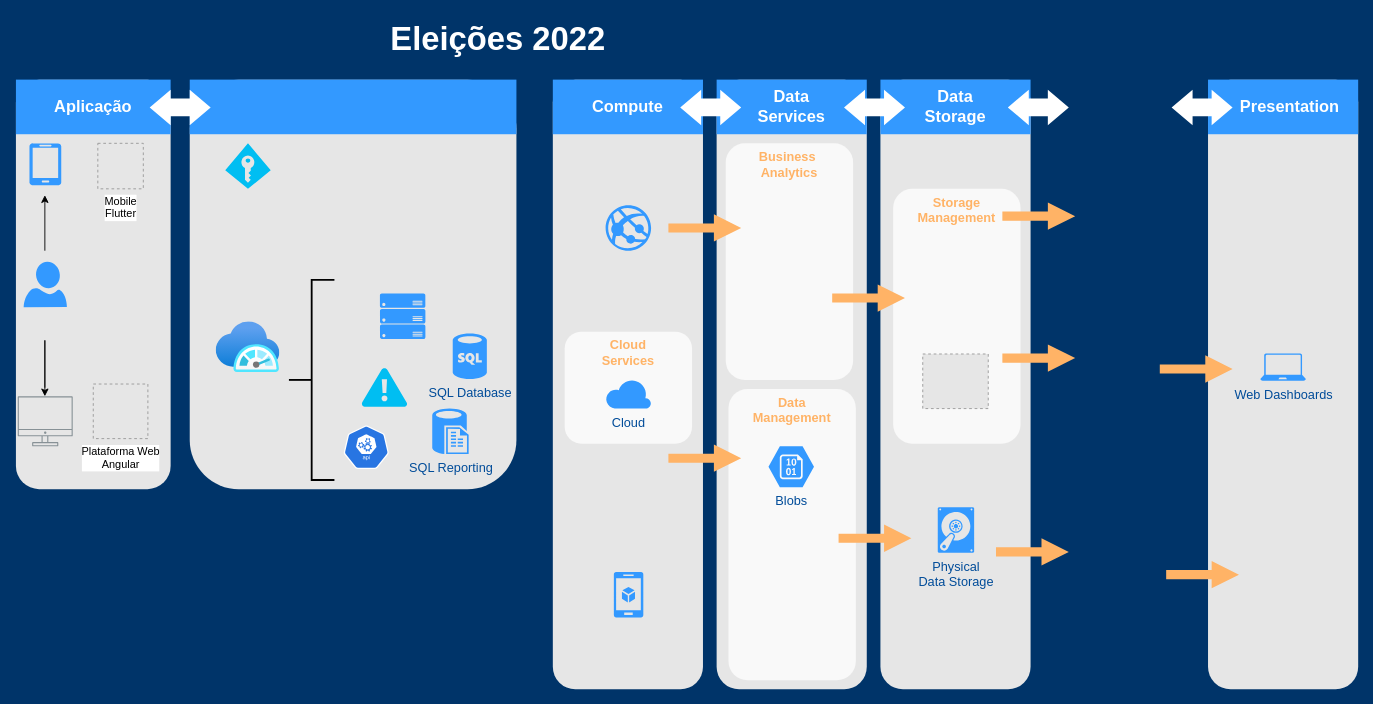
The diagram is 1373 pixels wide and 704 high, and some of its shapes have lost their labels. Grey dashed boxes stand in for pictures. The centre of each missing label's shape, as x and y in pixels:
"Azure Key Vault" belongs at (247,165).
"Azure Monitor" belongs at (247,346).
"Azure Website" belongs at (628,227).
"desktop" belongs at (44,421).
"Eleitor" belongs at (44,284).
"Mobile Services" belongs at (628,594).
"Segurança e Auditoria" belongs at (352,106).
"Storage Servers" belongs at (402,316).
